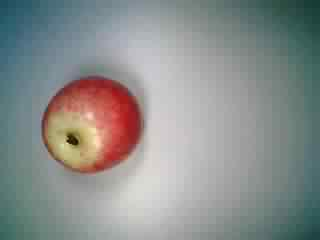apple: (39, 74, 146, 178)
